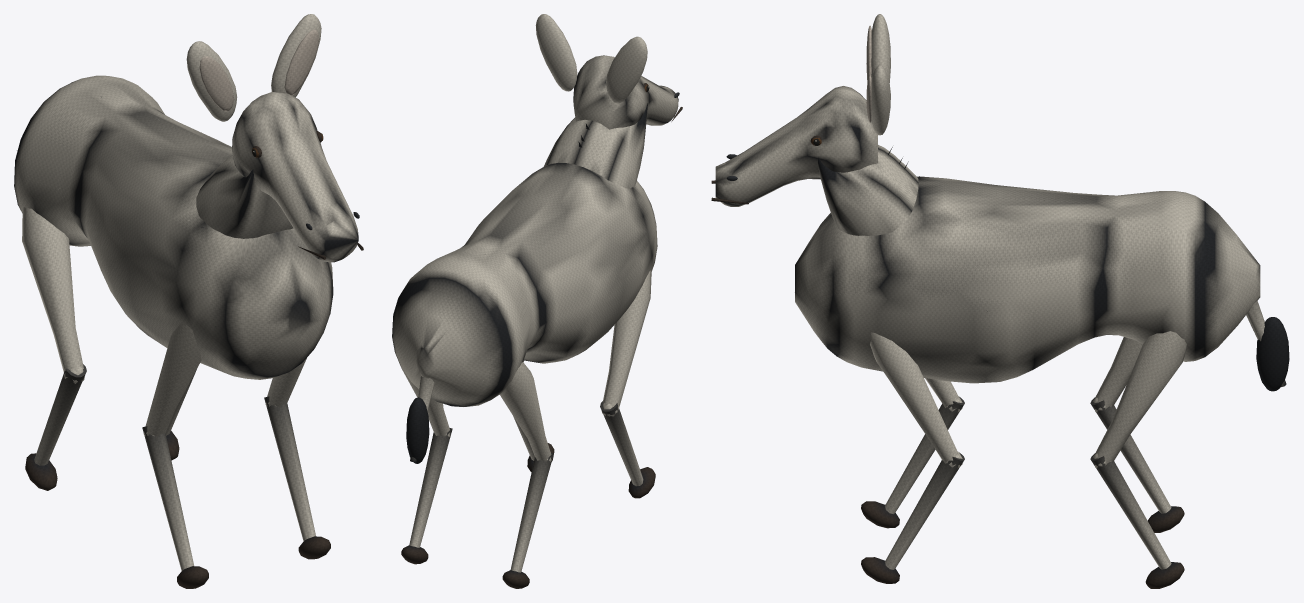
The model's file is plains-zebra.glb.
The picture shows the model from 3 angles, left to right: view 1: azimuth 30°, elevation 25°; view 2: azimuth 150°, elevation 25°; view 3: azimuth 270°, elevation 25°; orthographic projection. The views are drawn at different scales.
Parts seen in each view (by area): view 1: plains-zebra__torso.002, plains-zebra__head_and_neck.002, plains-zebra__upper_BL.002, plains-zebra__upper_FL.002, plains-zebra__lower_FL.002, plains-zebra__lower_FR.002, plains-zebra__lower_BL.002, plains-zebra__upper_FR.002, plains-zebra__lower_BR.002; view 2: plains-zebra__torso.002, plains-zebra__head_and_neck.002, plains-zebra__upper_FL.002, plains-zebra__upper_BL.002, plains-zebra__lower_BR.002, plains-zebra__lower_BL.002, plains-zebra__lower_FL.002, plains-zebra__tail_tuft.002, plains-zebra__upper_BR.002; view 3: plains-zebra__torso.002, plains-zebra__head_and_neck.002, plains-zebra__upper_BR.002, plains-zebra__upper_FR.002, plains-zebra__lower_FR.002, plains-zebra__lower_BR.002, plains-zebra__lower_FL.002, plains-zebra__lower_BL.002, plains-zebra__tail_tuft.002, plains-zebra__upper_BL.002.
Part boxes in pixels (x1,y1,x2,y2): plains-zebra__torso.002: (14,75,333,379); plains-zebra__head_and_neck.002: (186,14,363,262); plains-zebra__upper_BL.002: (22,207,84,383); plains-zebra__upper_FL.002: (143,323,201,436); plains-zebra__lower_FL.002: (142,426,208,588); plains-zebra__lower_FR.002: (264,396,330,559); plains-zebra__lower_BL.002: (25,364,86,490); plains-zebra__upper_FR.002: (265,358,306,407); plains-zebra__lower_BR.002: (165,369,196,460); plains-zebra__torso.002: (392,162,657,406); plains-zebra__head_and_neck.002: (535,14,682,188); plains-zebra__upper_FL.002: (601,270,651,416); plains-zebra__upper_BL.002: (499,362,551,461); plains-zebra__lower_BR.002: (401,428,452,564); plains-zebra__lower_BL.002: (502,452,553,588); plains-zebra__lower_FL.002: (600,401,655,498); plains-zebra__tail_tuft.002: (406,397,429,463); plains-zebra__upper_BR.002: (400,365,450,436); plains-zebra__torso.002: (795,176,1260,383); plains-zebra__head_and_neck.002: (711,14,918,235); plains-zebra__upper_BR.002: (1093,331,1186,468); plains-zebra__upper_FR.002: (870,332,962,468); plains-zebra__lower_FR.002: (861,452,964,583); plains-zebra__lower_BR.002: (1090,453,1184,588); plains-zebra__lower_FL.002: (861,396,964,528); plains-zebra__lower_BL.002: (1090,397,1184,532); plains-zebra__tail_tuft.002: (1256,317,1289,391); plains-zebra__upper_BL.002: (1093,337,1142,412).
Bounding box in the file's own units: 0.6945 × 2.24 × 2.26.
Materials: 2 (1 with a texture image).
